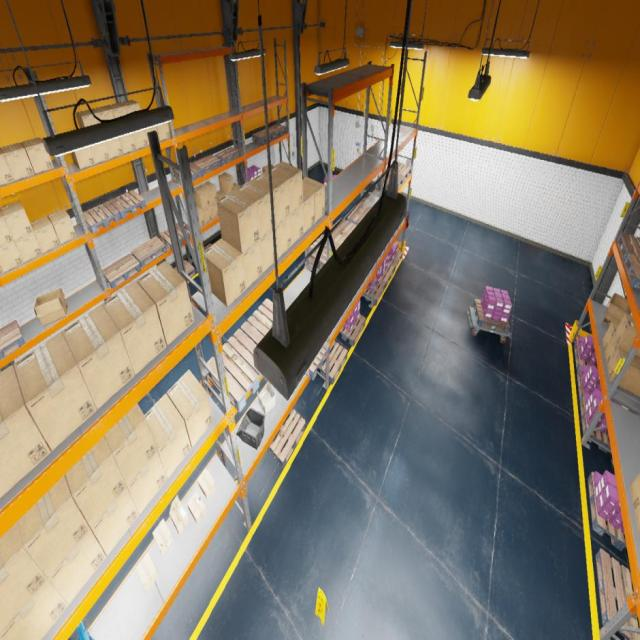box: (13, 332, 96, 451), (62, 304, 135, 410), (18, 475, 90, 578), (0, 364, 50, 498), (103, 281, 167, 375), (65, 437, 127, 528), (0, 521, 48, 634), (137, 261, 194, 345), (48, 526, 106, 605), (104, 403, 157, 486), (0, 579, 68, 639), (144, 394, 192, 478), (167, 369, 213, 447), (91, 486, 139, 556), (205, 239, 246, 307), (217, 190, 260, 254), (128, 451, 168, 515), (236, 179, 276, 239), (253, 170, 290, 226), (607, 347, 640, 396), (272, 162, 303, 213), (0, 200, 33, 240), (34, 288, 68, 326), (0, 142, 34, 180), (20, 138, 54, 174), (604, 334, 640, 365), (30, 216, 60, 253), (615, 313, 640, 357), (302, 177, 325, 223), (48, 209, 77, 244), (242, 240, 263, 288), (136, 552, 159, 593), (602, 293, 631, 325), (15, 231, 42, 263), (260, 227, 278, 273), (152, 518, 173, 556), (0, 241, 24, 273), (170, 494, 189, 534), (276, 214, 290, 259), (188, 491, 206, 524), (197, 468, 216, 498), (303, 188, 315, 234), (71, 146, 95, 169), (290, 204, 303, 246), (0, 210, 14, 247), (0, 150, 14, 186), (603, 321, 618, 353), (90, 142, 110, 164), (76, 110, 100, 127), (193, 186, 210, 209), (92, 106, 115, 122), (106, 137, 123, 158), (218, 172, 234, 194), (201, 182, 217, 204), (630, 473, 639, 512), (106, 103, 128, 118), (119, 134, 136, 153), (119, 99, 140, 113), (133, 130, 148, 149), (145, 126, 159, 145), (198, 205, 212, 223), (157, 123, 170, 140), (634, 505, 640, 539), (197, 206, 204, 226), (210, 201, 218, 218), (262, 164, 273, 172), (217, 191, 226, 200), (233, 182, 240, 190), (0, 266, 3, 274), (220, 191, 227, 194), (399, 223, 402, 227)
pallets: (206, 329, 262, 412), (595, 548, 640, 639), (588, 472, 627, 551), (269, 408, 306, 468), (580, 396, 611, 453), (240, 298, 272, 345), (102, 253, 141, 289), (317, 340, 347, 384), (473, 299, 510, 334), (82, 202, 120, 234), (309, 234, 341, 270), (131, 236, 167, 268), (109, 190, 146, 219), (0, 320, 25, 359), (306, 342, 331, 380), (338, 314, 366, 346), (324, 218, 357, 244), (159, 223, 190, 250), (617, 231, 640, 265), (574, 339, 596, 370), (362, 279, 386, 305), (375, 170, 404, 191), (624, 253, 640, 291), (576, 365, 592, 402), (192, 154, 221, 174), (386, 160, 412, 182), (347, 203, 372, 225), (174, 163, 203, 181), (173, 260, 196, 280), (215, 147, 240, 164), (266, 123, 288, 138), (252, 130, 275, 144), (381, 264, 394, 287), (390, 250, 402, 272), (204, 243, 212, 250)
